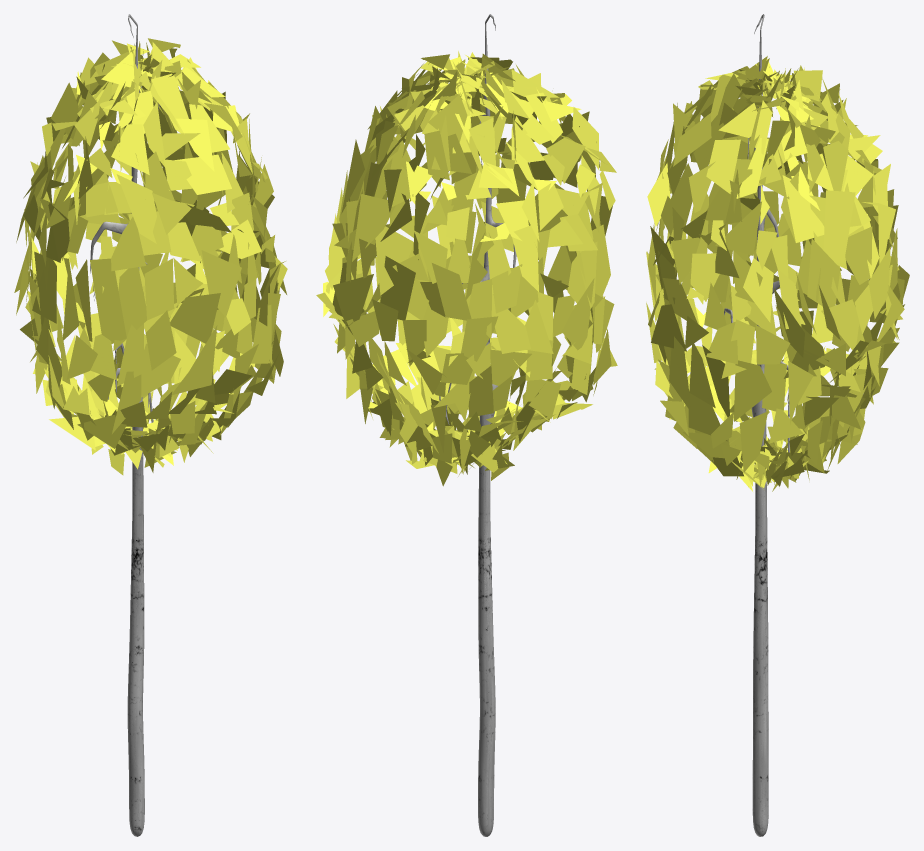
File: Leaves24.001.fbx
The picture shows the model from 3 angles, left to right: view 1: azimuth 30°, elevation 25°; view 2: azimuth 150°, elevation 25°; view 3: azimuth 270°, elevation 25°; orthographic projection.
Visible parts, largest first — view 1: Leaves24.001; view 2: Leaves24.001; view 3: Leaves24.001.
Part boxes in pixels (box(x1,y1,x2,y2)): Leaves24.001: box(14, 14, 287, 836); Leaves24.001: box(316, 14, 617, 836); Leaves24.001: box(646, 14, 909, 836).
Bounding box in the file's own units: 816 × 2612 × 762.
Materials: 2 (1 with a texture image).
